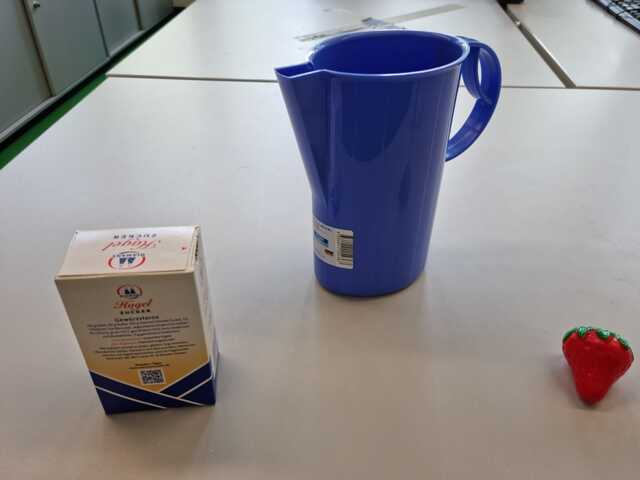004_sugar_box: (52, 224, 227, 421)
012_strawberry: (559, 323, 636, 411)
019_pitcher_base: (271, 27, 505, 303)
